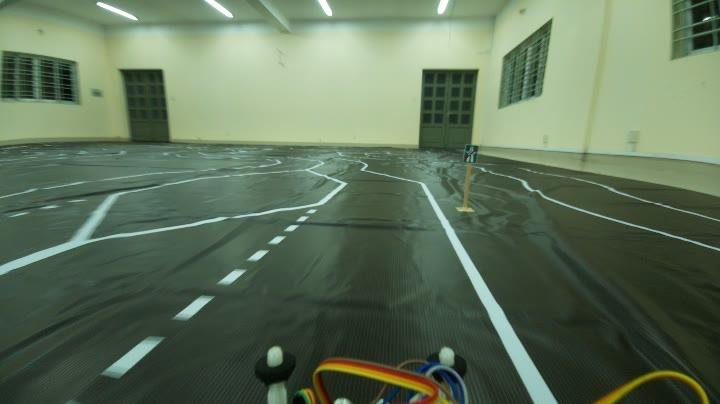highway_exit: (460, 136, 480, 167)
